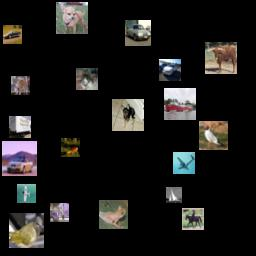airplane: (173, 152, 195, 174), (17, 184, 36, 203)
automobile: (2, 141, 37, 176), (125, 20, 151, 46), (159, 59, 181, 81), (3, 25, 22, 44)
bird: (9, 213, 44, 248), (199, 121, 228, 150)
deer: (61, 138, 80, 157)
dog: (112, 99, 144, 131), (56, 2, 88, 34), (76, 68, 98, 90), (11, 76, 30, 95)
frog: (99, 200, 128, 229)
ship: (164, 88, 196, 120), (166, 187, 182, 203)
truck: (9, 116, 31, 138), (50, 203, 69, 222)
